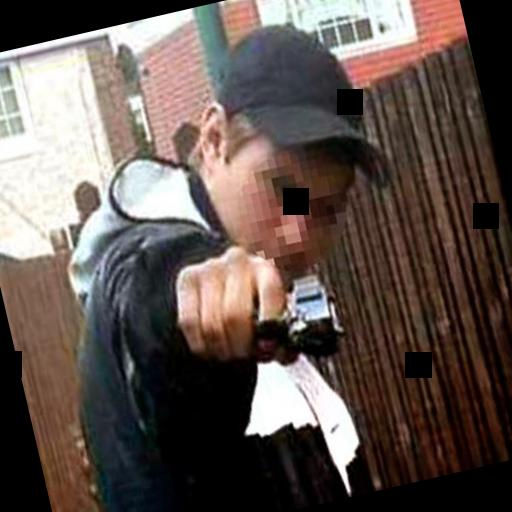Handgun: (236, 266, 350, 374)
